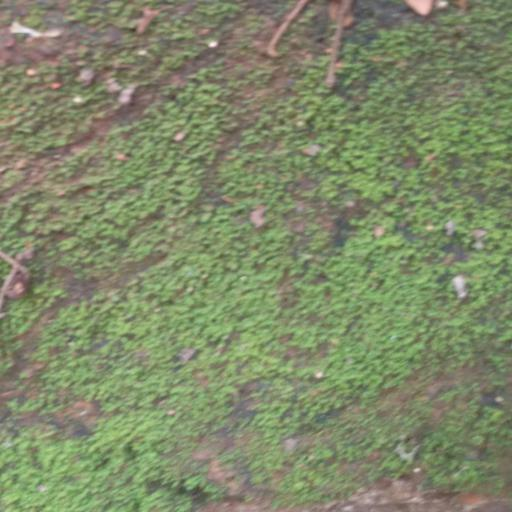algae: (25, 10, 512, 512)
